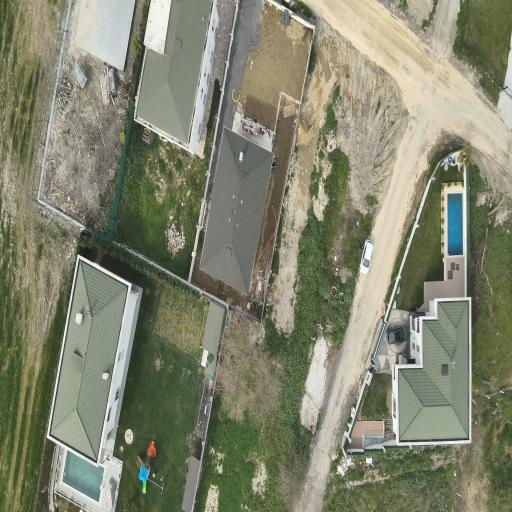car: (360, 240, 373, 274), (388, 326, 408, 344)
